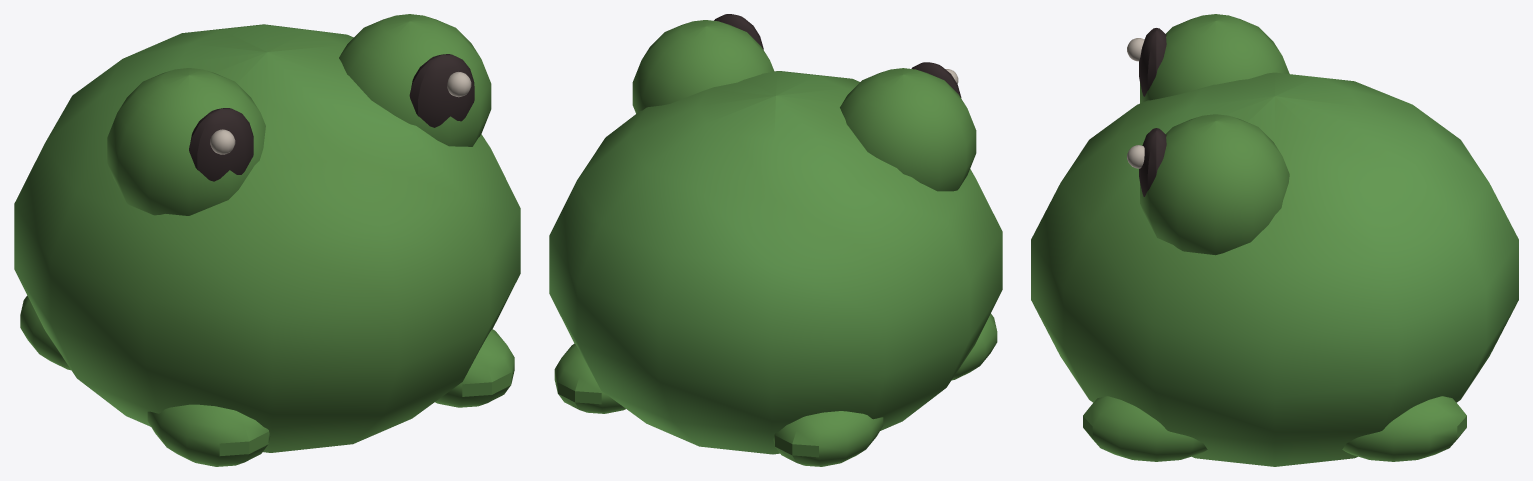
File: pbc9259d5.glb
3 views of the same model, side by side, from view 1: azimuth 30°, elevation 25°; view 2: azimuth 150°, elevation 25°; view 3: azimuth 270°, elevation 25° (orthographic). The views are drawn at different scales.
Parts seen in each view (by area): view 1: pet_pbc9259d5; view 2: pet_pbc9259d5; view 3: pet_pbc9259d5.
Boxes of the visible parts, x1,y1,x2,y2 form: pet_pbc9259d5: (14,14,520,466); pet_pbc9259d5: (549,14,1002,466); pet_pbc9259d5: (1031,14,1518,466).
Bounding box in the file's own units: 0.3929 × 0.3465 × 0.4116.
